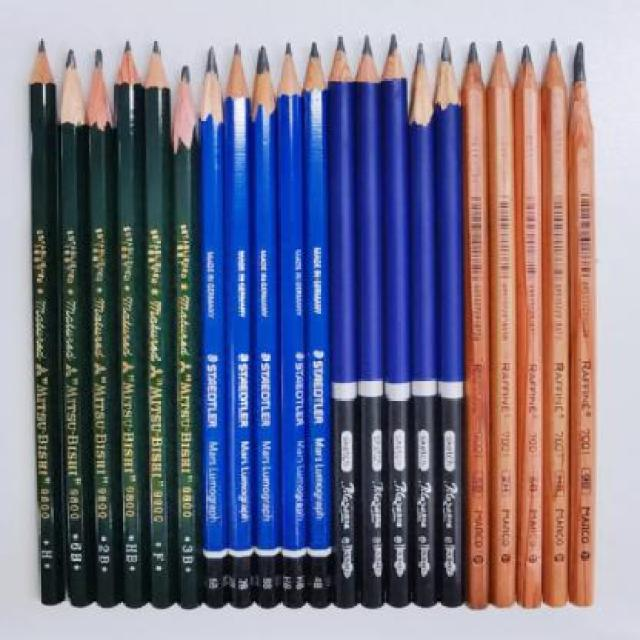pencil: (85, 45, 118, 609), (28, 36, 58, 606), (115, 37, 144, 609), (355, 31, 383, 612), (435, 33, 463, 612), (540, 36, 568, 610), (515, 42, 543, 610), (145, 35, 172, 612), (226, 42, 252, 610), (330, 32, 355, 610), (570, 37, 595, 611), (490, 38, 515, 612), (410, 39, 435, 610), (253, 42, 278, 610), (60, 47, 85, 608), (385, 31, 409, 612), (465, 36, 489, 612), (279, 40, 303, 612), (174, 62, 198, 613), (200, 43, 223, 611), (306, 37, 328, 611)
